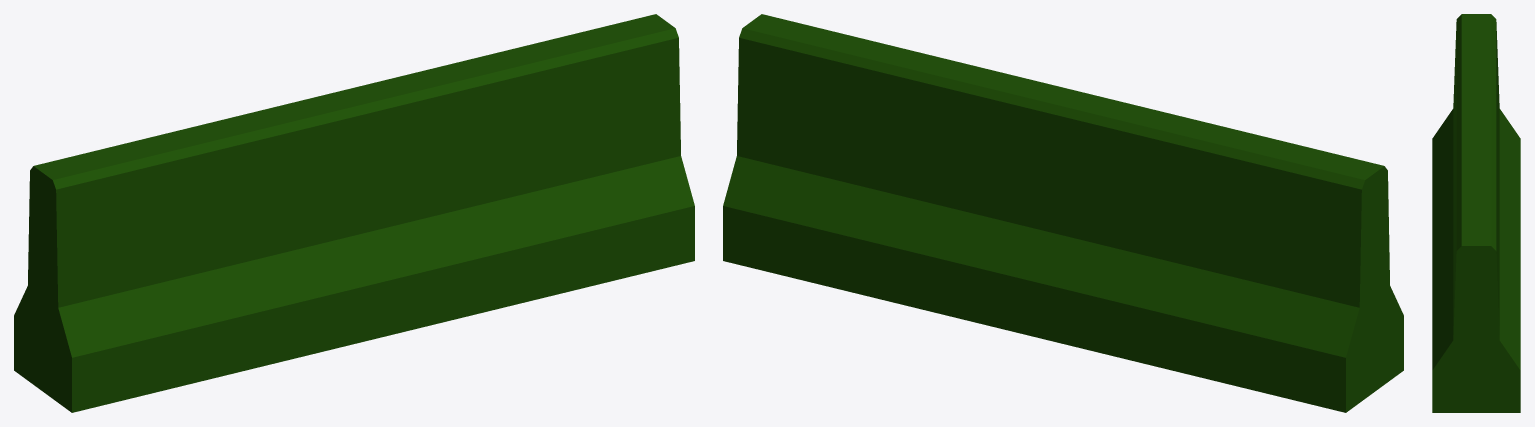
Rendered from T2_Barrier01.fbx.
3 renders of one model, left to right at view 1: azimuth 30°, elevation 25°; view 2: azimuth 150°, elevation 25°; view 3: azimuth 270°, elevation 25°, orthographic. The views are drawn at different scales.
Parts seen in each view (by area): view 1: T2_Barrier01; view 2: T2_Barrier01; view 3: T2_Barrier01.
Boxes of the visible parts, left/top/right/bottom form: T2_Barrier01: left=14, top=14, right=694, bottom=412; T2_Barrier01: left=723, top=14, right=1403, bottom=412; T2_Barrier01: left=1432, top=14, right=1520, bottom=412.
Bounding box in the file's own units: 2.23 × 0.7487 × 0.3599.
